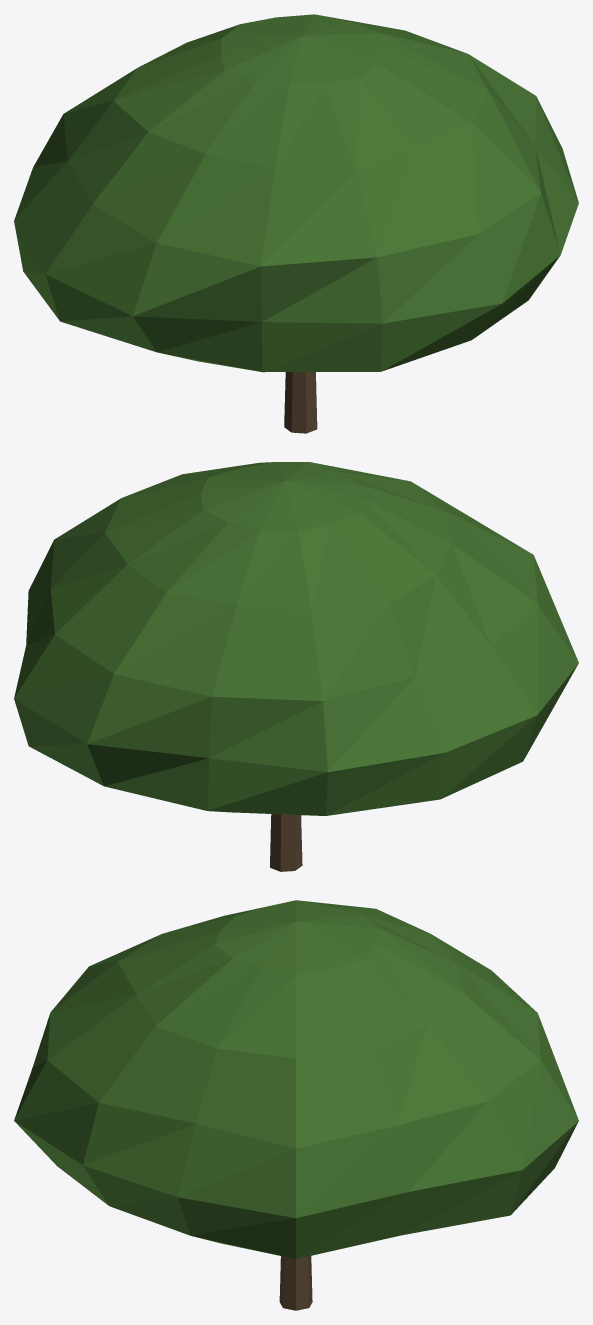
The model's file is spreading.L1.ac65ff14.glb.
The picture shows the model from 3 angles, top to bottom: view 1: azimuth 30°, elevation 25°; view 2: azimuth 150°, elevation 25°; view 3: azimuth 270°, elevation 25°; orthographic projection. The views are drawn at different scales.
Visible parts, largest first — view 1: A-TREES-SPREADING; view 2: A-TREES-SPREADING; view 3: A-TREES-SPREADING.
Boxes of the visible parts, <box> form: A-TREES-SPREADING: <box>14,14,578,433</box>; A-TREES-SPREADING: <box>14,462,578,871</box>; A-TREES-SPREADING: <box>14,900,578,1310</box>.
Bounding box in the file's own units: 12.47 × 9 × 12.06.
